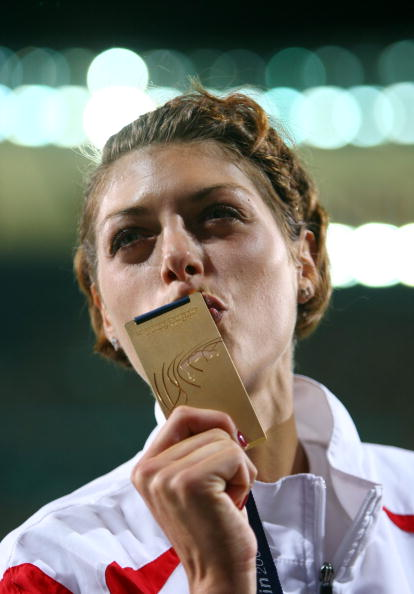face: (97, 132, 284, 402)
